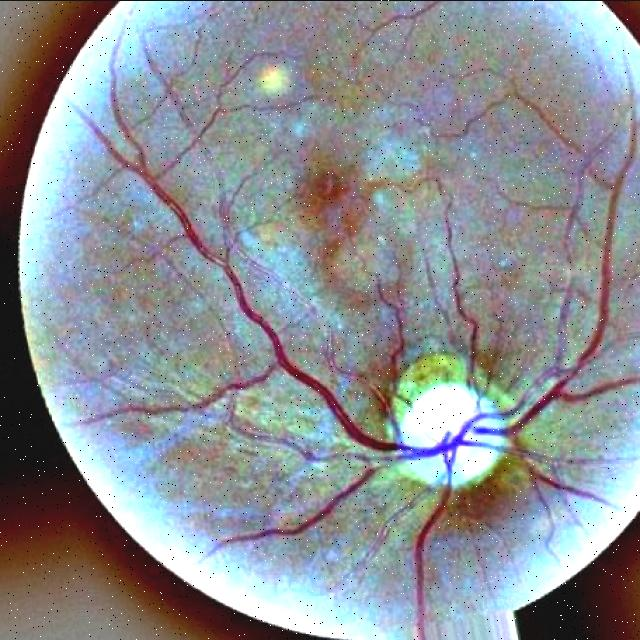Macula: (316, 173, 351, 209)
Nerves: (83, 84, 640, 619)
Optic Disk: (392, 352, 508, 484)
